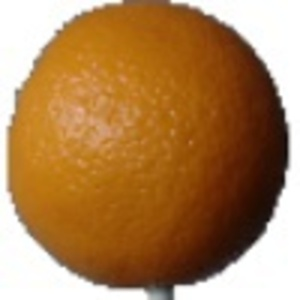laranja: (6, 3, 291, 291)
